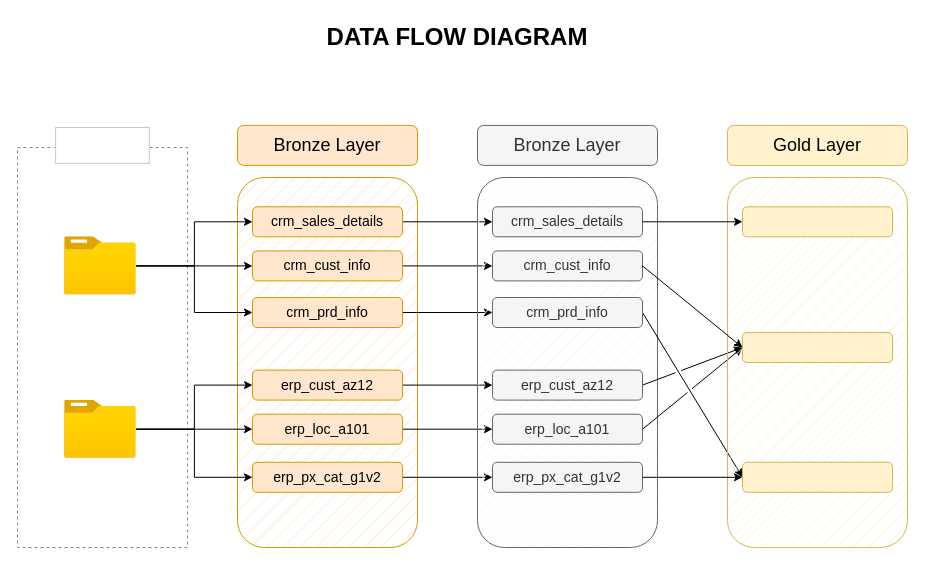
This 925x565 diagram has some shape labels left out. Here are the shapes that lost their labels. From the top down, the centre of each, then its label:
At point (102, 144): "sources".
At point (817, 221): "fact_sales".
At point (100, 265): "CRM".
At point (817, 347): "dim_customers".
At point (100, 429): "ERP".
At point (817, 476): "dim_products".
